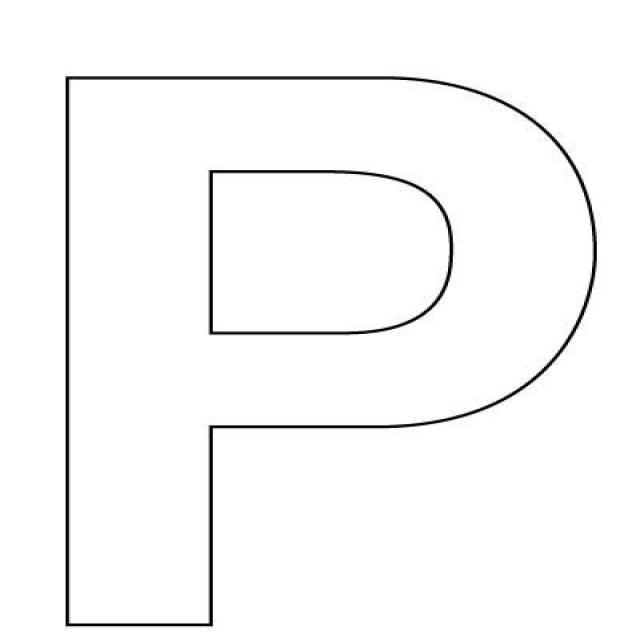P: (14, 42, 622, 633)
